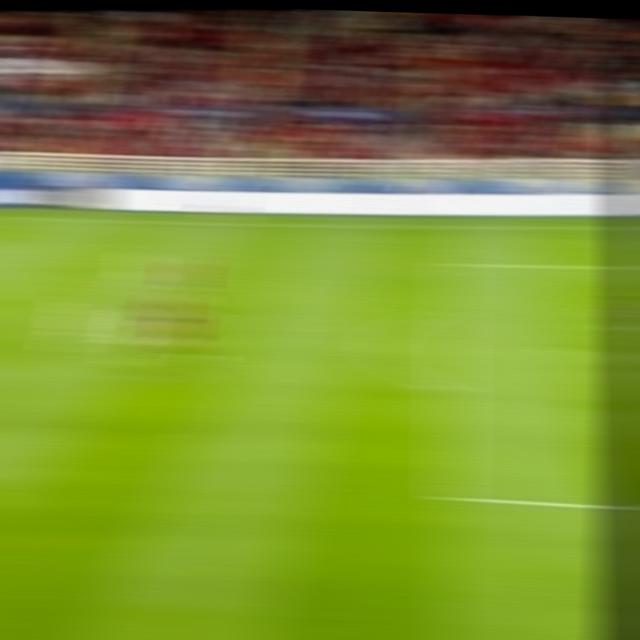bigarea_bottom_inner: (428, 481, 473, 509)
bigarea_top_inner: (435, 256, 472, 272)
bottom_arc_area_intersection: (432, 378, 470, 399)
midline_top_intersection: (0, 208, 15, 224)
top_arc_area_intersection: (434, 300, 471, 319)
